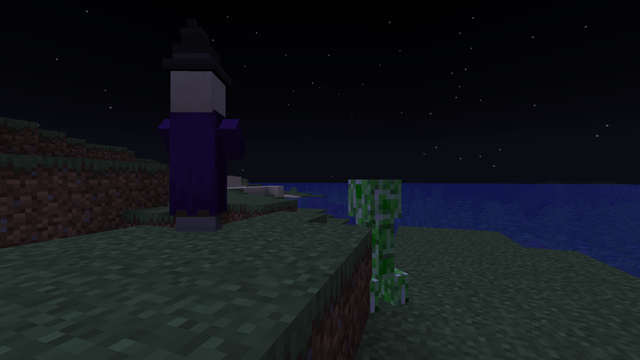creepers: (346, 173, 397, 315)
sorcieres: (160, 58, 235, 235)
